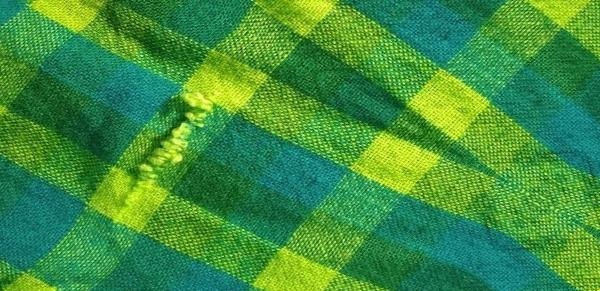knot: (111, 85, 225, 230)
